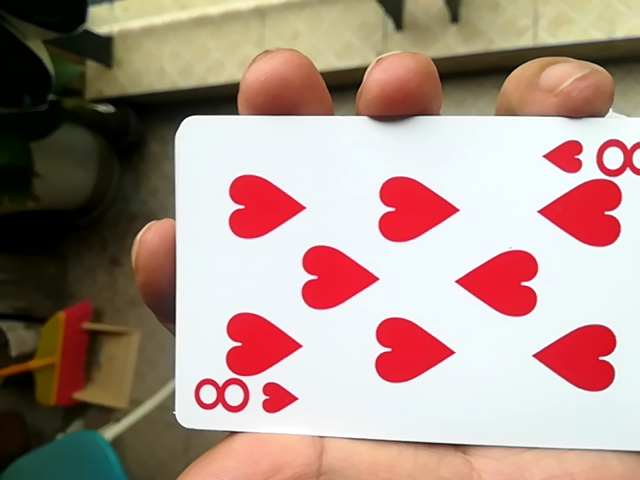hx 8: (170, 114, 633, 451)
